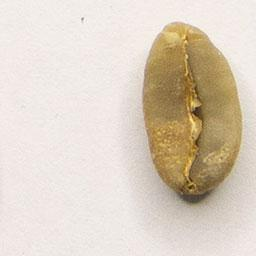longberry: (138, 19, 245, 202)
